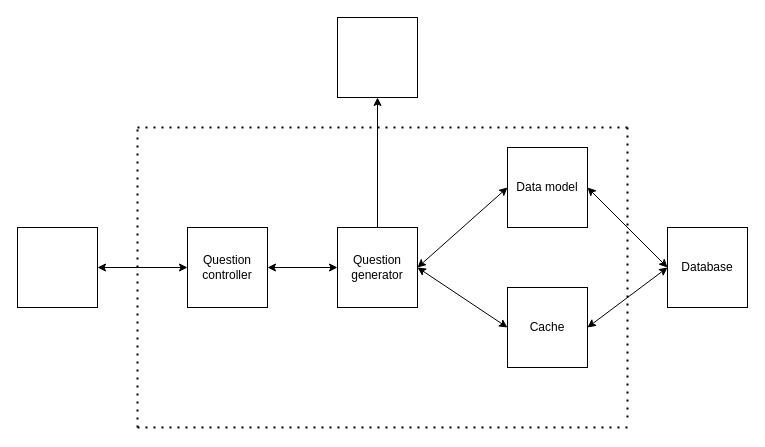
The diagram is 765 pixels wide and 447 high, and some of its shapes have lost their labels. The shapes that lost their labels are listed below. From the top down, each one's centre as x and y in pixels, then its label:
point 377,57: WIkidata API
point 57,267: Backend
